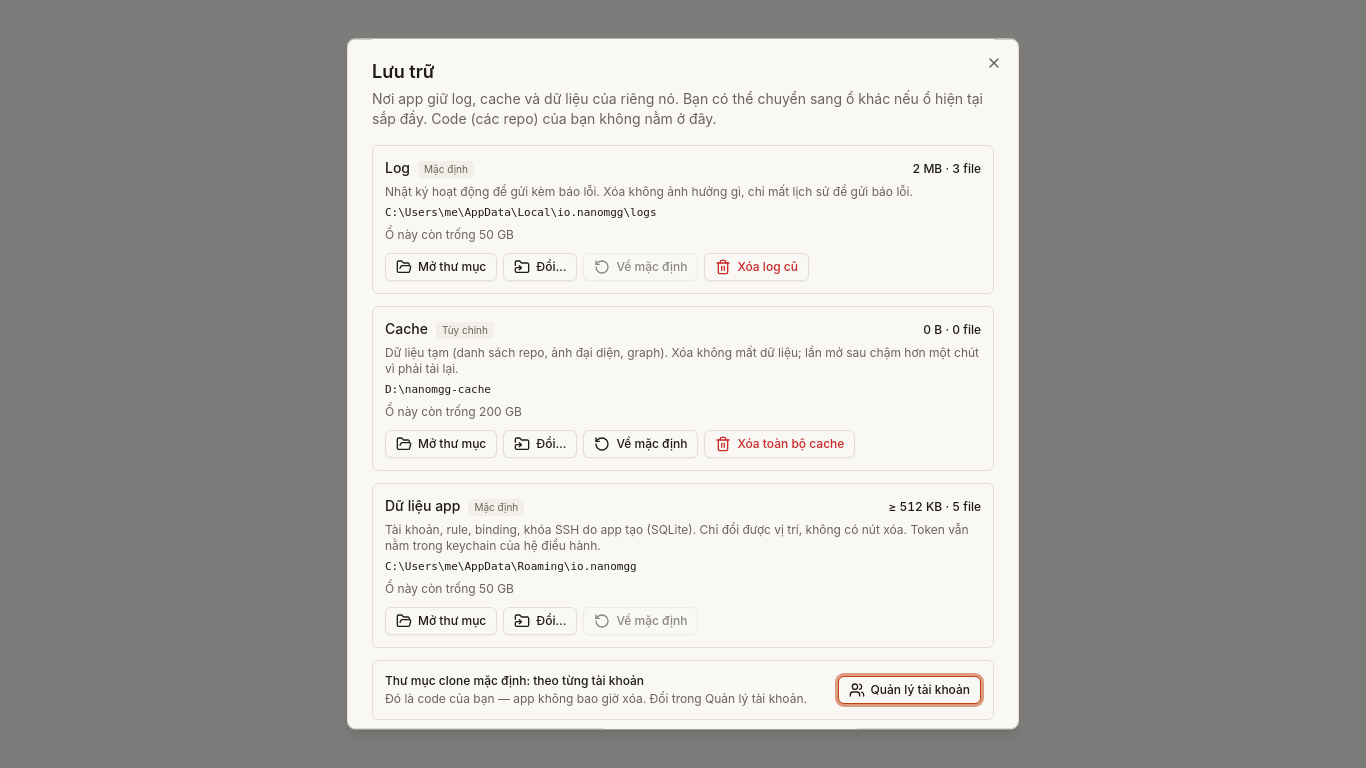
Test: Storage dialog › explains what clearing the cache does before doing it
The image size is (1366, 768).
Click the button "Xóa toàn bộ cache": (780, 444) left=704, top=430, right=855, bottom=458
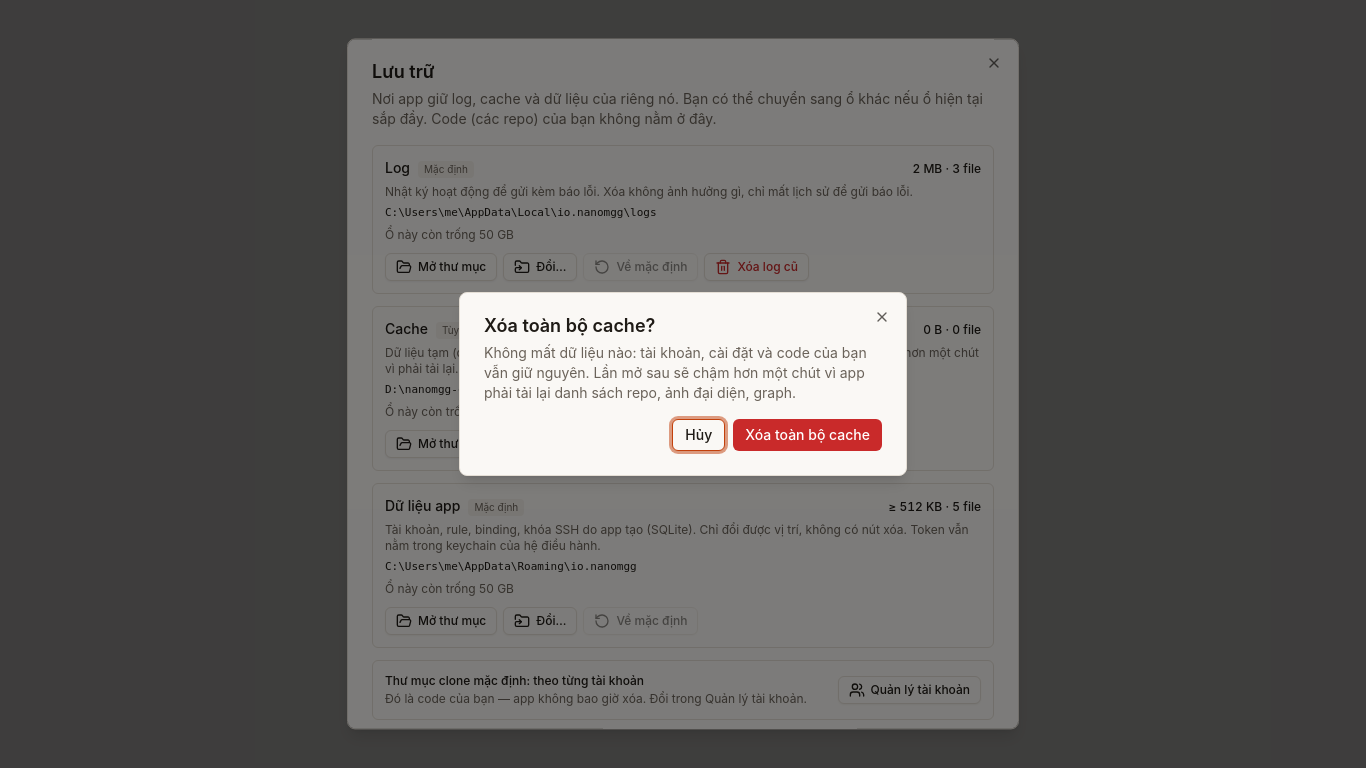
Now the text "Không mất dữ liệu nào" is shown, box left=484, top=344, right=867, bottom=401
Click the button "Xóa toàn bộ cache": (808, 435) left=733, top=419, right=882, bottom=451
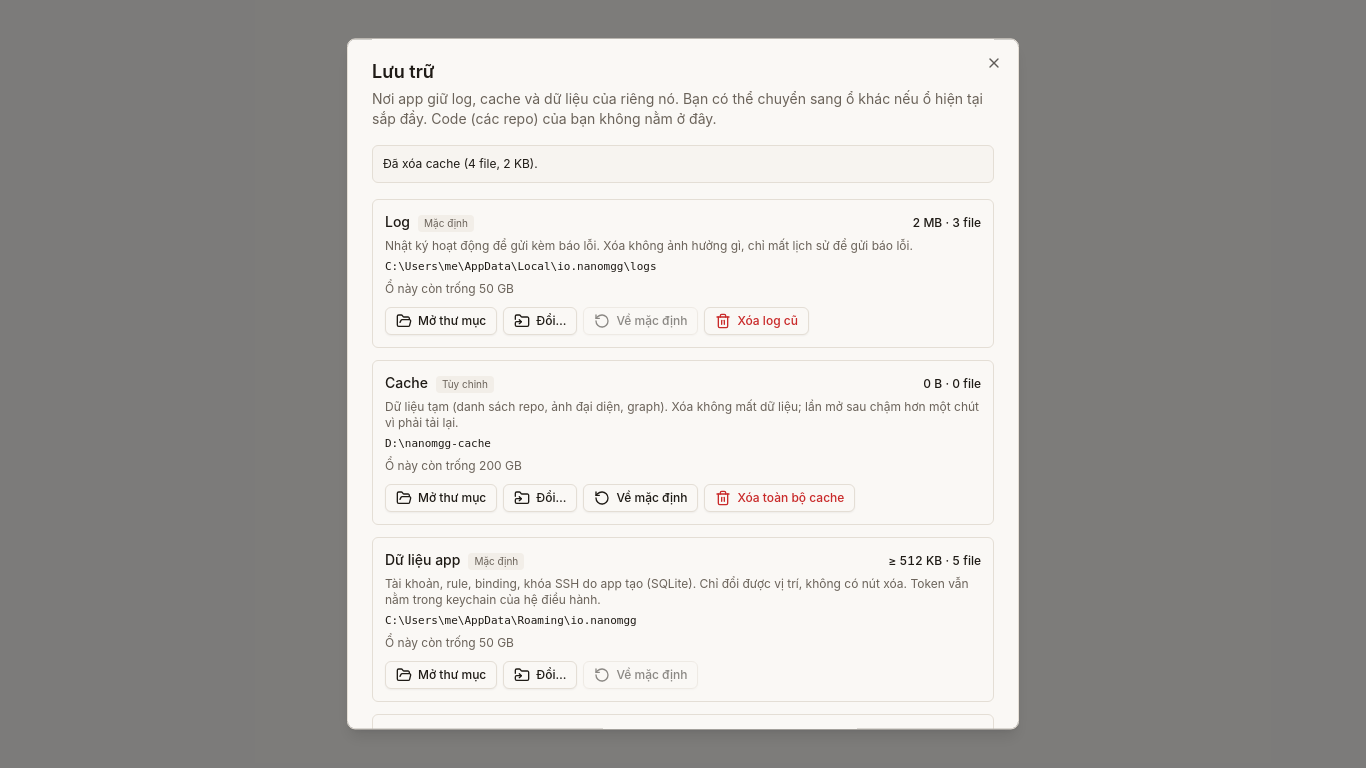
Now the text "Đã xóa cache (4 file, 2 KB)." is shown, box left=383, top=156, right=538, bottom=171
